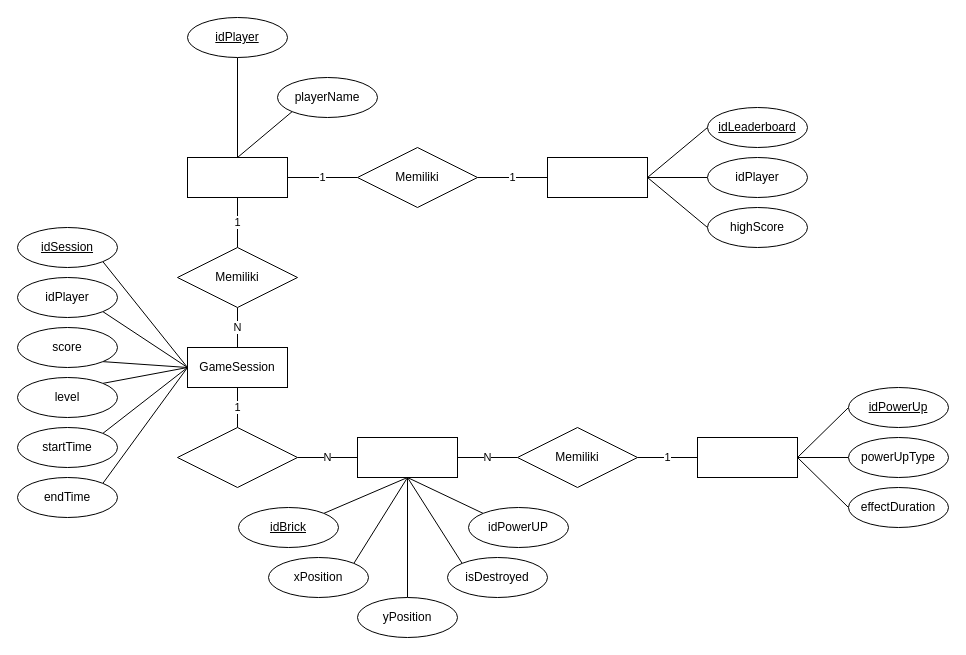
The diagram is 966 pixels wide and 655 high, and some of its shapes have lost their labels. The centre of each missing label's shape, as x and y in pixels:
"Brick" goes at pixel 407 457.
"Leaderboard" goes at pixel 597 177.
"Player" goes at pixel 237 177.
"PowerUp" goes at pixel 747 457.
"terdiri" goes at pixel 237 457.
